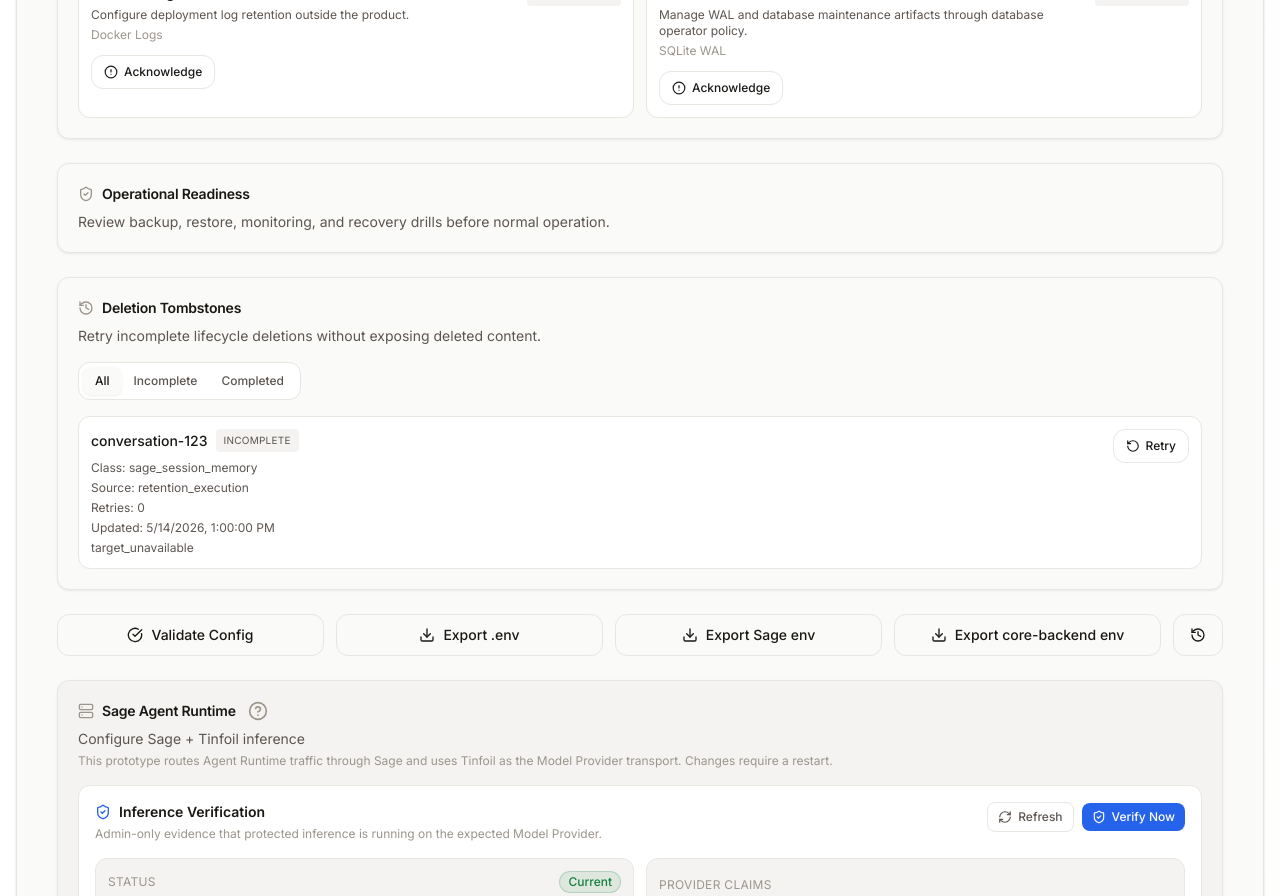
Scenario: AdminDeploymentConfig › refreshes deletion tombstones after a retry conflict
This screenshot has width=1280, height=896.
(page scrolled)
Click the button with aria-label "Retry deletion tombstone 7".
click(1151, 446)  # box [1112, 429, 1189, 463]
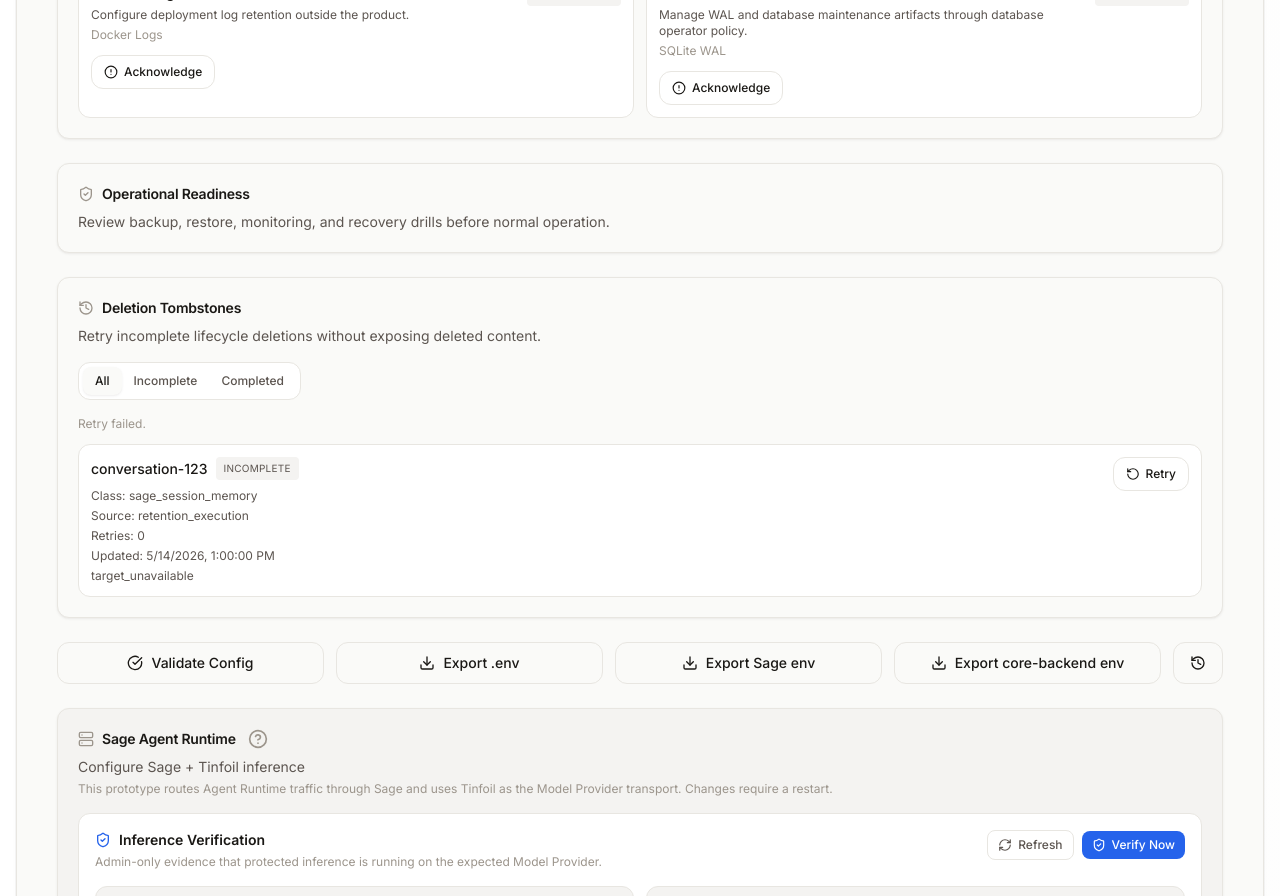
Check: the text "Retry failed." is shown, box [78, 416, 146, 431]
